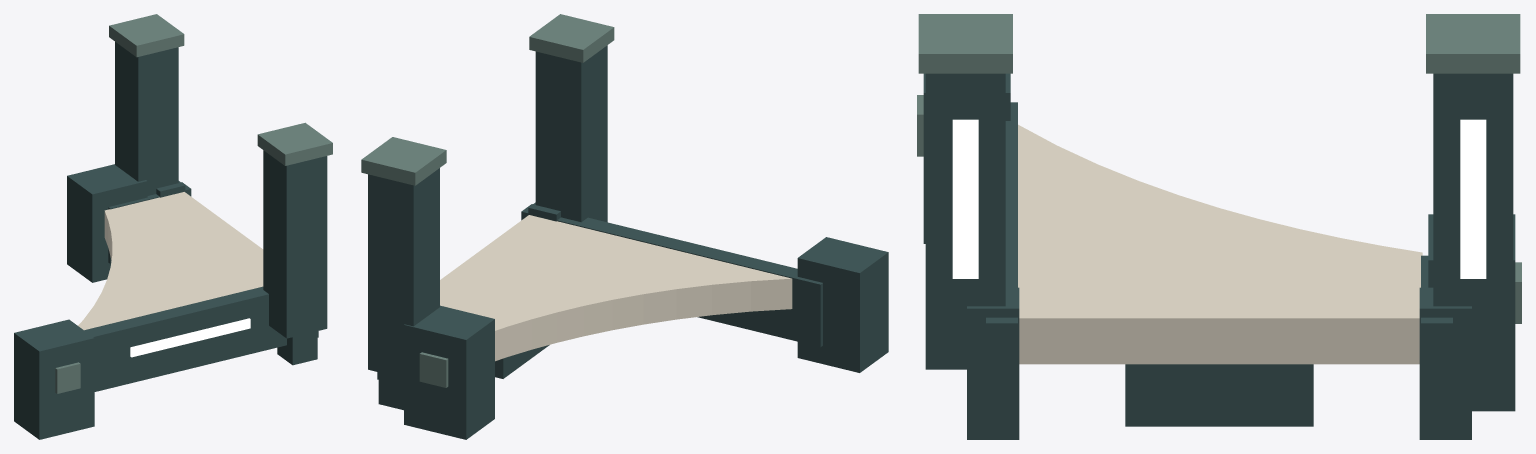
Rendered from Pier_Angled_35_Switch_lab.glb.
3 views of the same model, side by side, from view 1: azimuth 30°, elevation 25°; view 2: azimuth 150°, elevation 25°; view 3: azimuth 270°, elevation 25° (orthographic). The views are drawn at different scales.
Visible parts, largest first — view 1: Pier_Angled_35_Switch; view 2: Pier_Angled_35_Switch; view 3: Pier_Angled_35_Switch.
Boxes of the visible parts, left/top/right/bottom form: Pier_Angled_35_Switch: left=14, top=14, right=332, bottom=439; Pier_Angled_35_Switch: left=361, top=14, right=888, bottom=439; Pier_Angled_35_Switch: left=917, top=14, right=1521, bottom=439.
Bounding box in the file's own units: 4.05 × 2.95 × 4.17.
